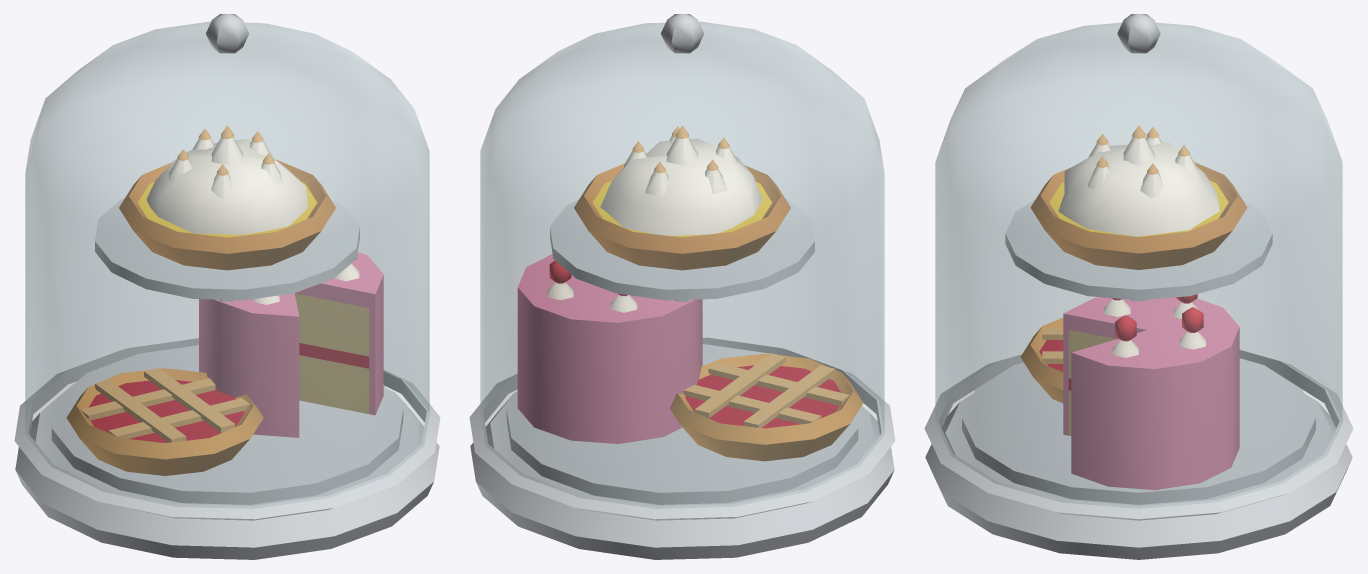
The model's file is Shop_DessertCase.fbx.
3 renders of one model, left to right at view 1: azimuth 30°, elevation 25°; view 2: azimuth 150°, elevation 25°; view 3: azimuth 270°, elevation 25°, orthographic.
Visible parts, largest first — view 1: Glass, Chrome, Frosting, Meringue, PieCrust2, PieCrust, Sponge, Lattice, Cherry, Lemon, Jam, Toast; view 2: Glass, Chrome, Frosting, Meringue, PieCrust2, PieCrust, Lattice, Cherry, Lemon, Cream, Toast; view 3: Glass, Chrome, Frosting, Meringue, PieCrust2, PieCrust, Cream, Berries, Lemon, Sponge, Toast, Lattice.
Boxes of the visible parts, x1,y1,x2,y2 form: Glass: (25,21,429,508); Chrome: (14,14,440,559); Frosting: (199,252,383,437); Meringue: (146,137,308,234); PieCrust2: (119,159,335,270); PieCrust: (66,368,263,475); Sponge: (295,293,369,413); Lattice: (80,368,249,442); Cherry: (88,380,244,442); Lemon: (137,181,317,237); Jam: (299,343,369,368); Toast: (177,125,274,175); Glass: (480,21,884,508); Chrome: (469,14,895,559); Frosting: (517,254,702,443); Meringue: (600,136,762,235); PieCrust2: (574,163,790,270); PieCrust: (669,353,863,461); Lattice: (683,353,849,427); Cherry: (685,365,841,428); Lemon: (592,180,772,237); Cream: (547,282,637,312); Toast: (632,125,729,173); Glass: (935,22,1342,508); Chrome: (924,14,1353,559); Frosting: (1063,297,1239,490); Meringue: (1058,137,1219,236); PieCrust2: (1030,162,1247,269); PieCrust: (1020,317,1063,403); Cream: (1104,299,1205,357); Berries: (1111,294,1203,341); Lemon: (1049,180,1228,236); Sponge: (1068,330,1115,435); Toast: (1096,125,1189,174); Lattice: (1042,327,1063,363).
Bounding box in the file's own units: 257 × 303 × 257.
